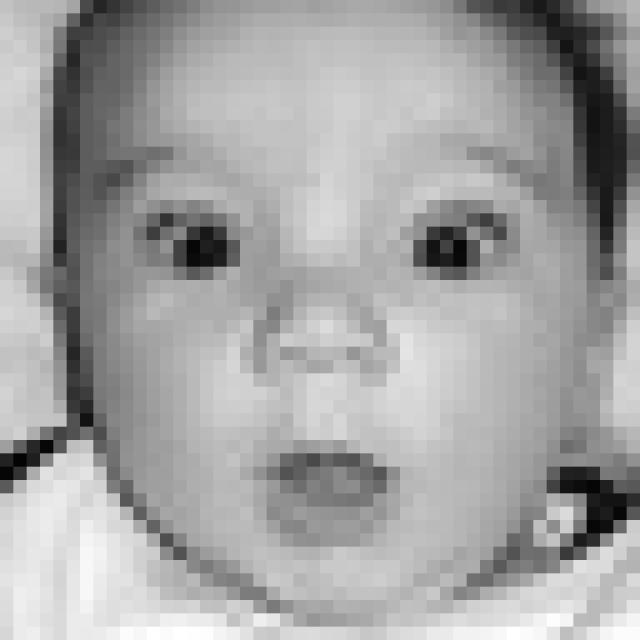surprise: (91, 136, 558, 555)
